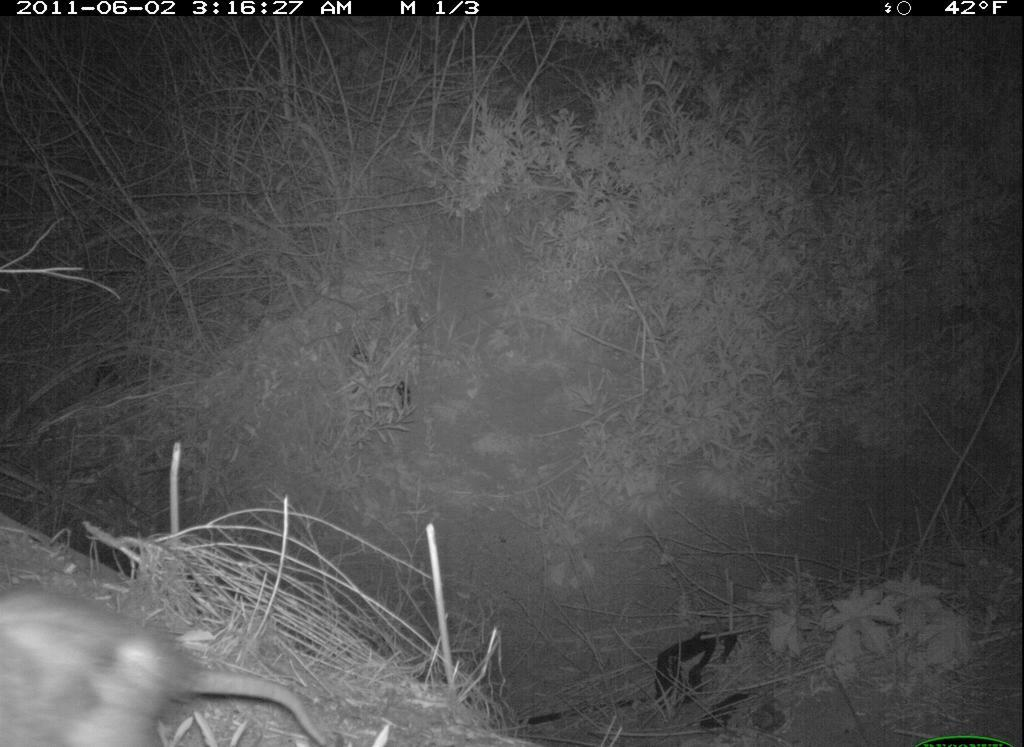opossum: (1, 559, 342, 747)
